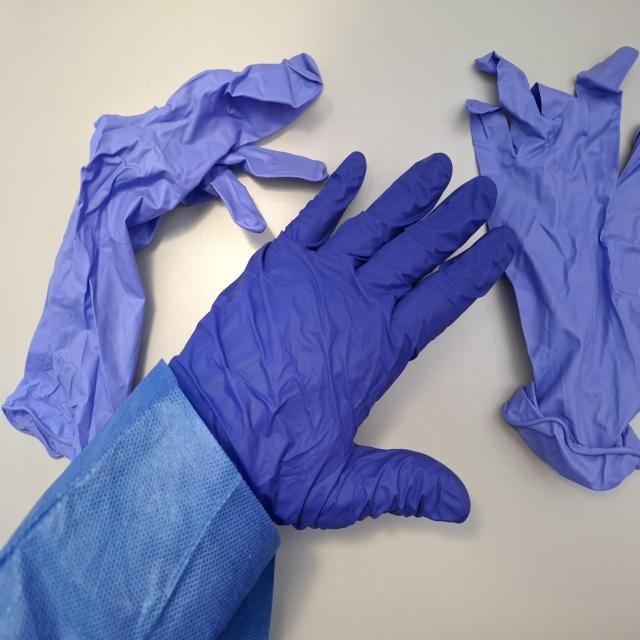glove_on: (165, 148, 520, 568)
